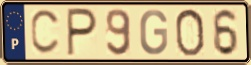6: (211, 7, 240, 58)
9: (104, 8, 131, 58)
C: (30, 8, 63, 57)
G: (139, 8, 169, 57)
O: (173, 7, 206, 58)
P: (66, 6, 100, 59)
